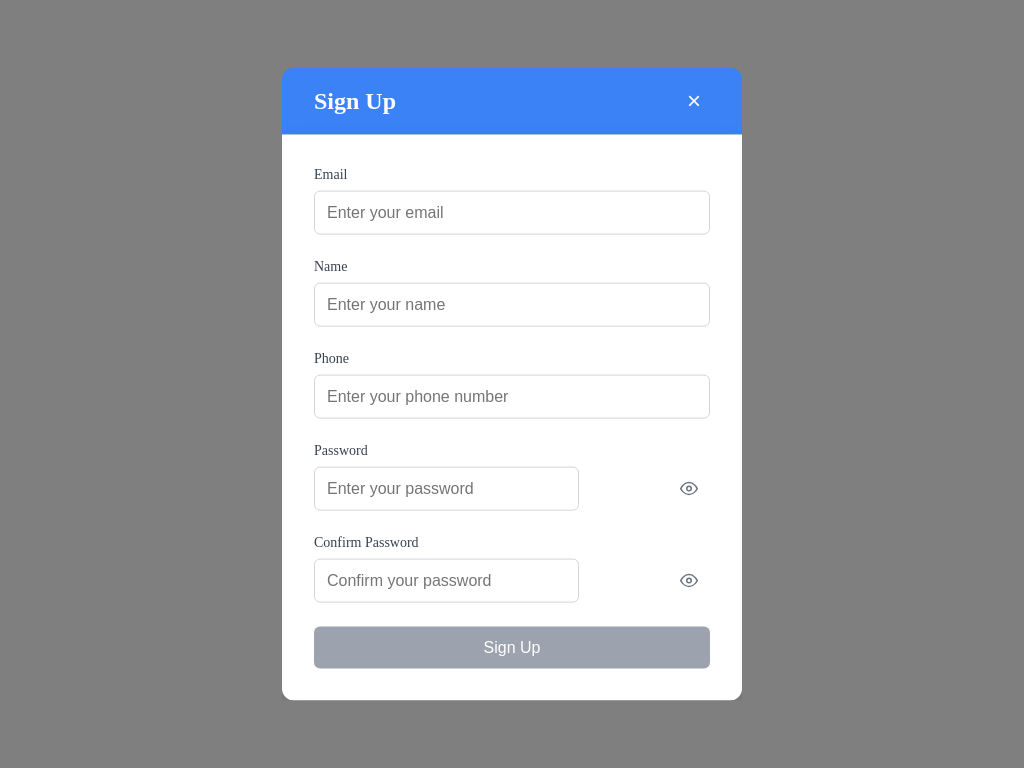
Test case: Signup modal › shows the API error and keeps the modal open on failure
Type "new@b.c" into the field labelled "Email".
click(512, 212); type("new@b.c")  # box [314,190,710,234]
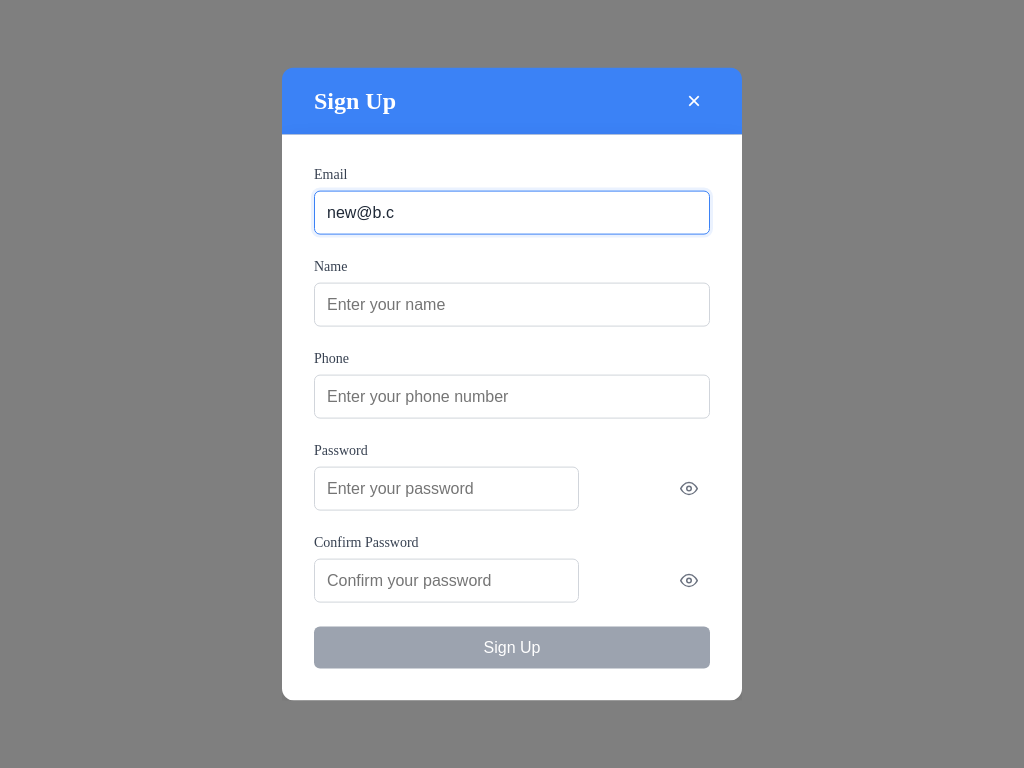
Type "New User" into the field labelled "Name".
click(512, 304); type("New User")  # box [314,282,710,326]
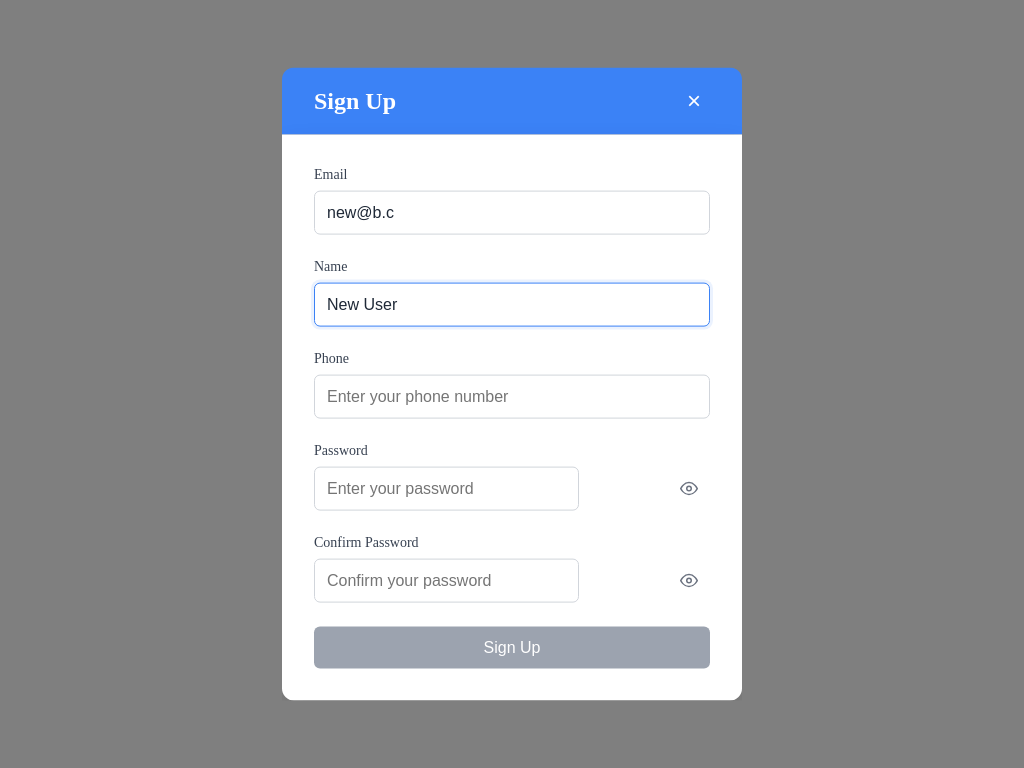
Type "0123456789" into the field labelled "Phone".
click(512, 396); type("0123456789")  # box [314,374,710,418]
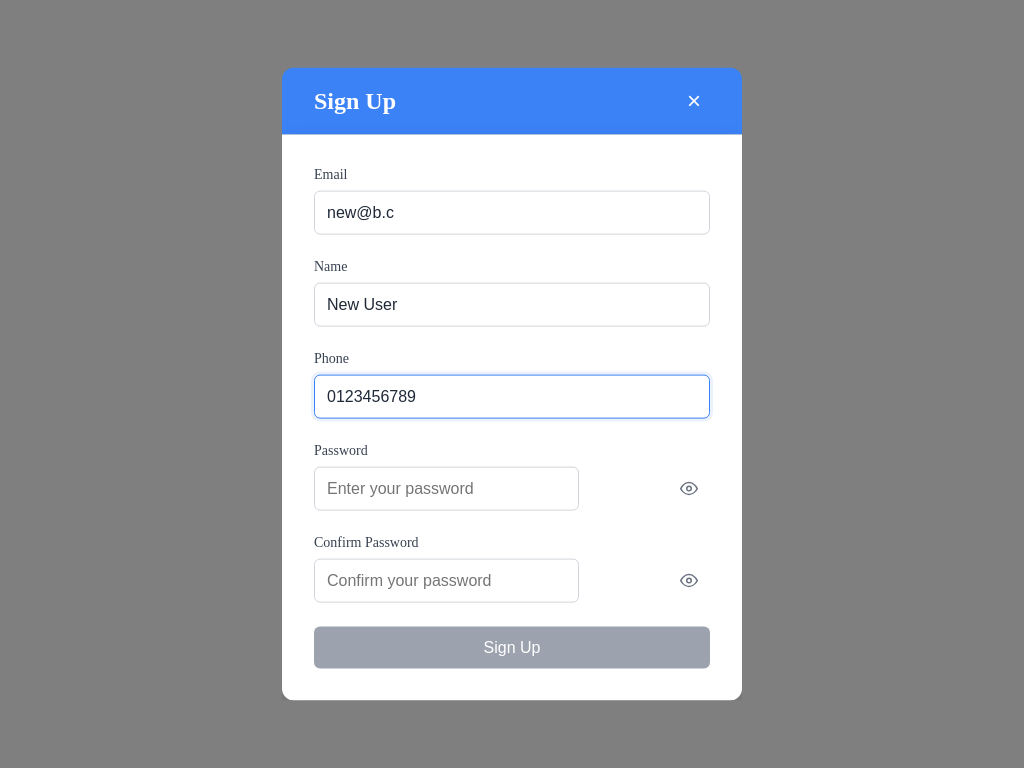
Type "Passw0rd!" into the password field labelled "Password".
click(446, 488); type("Passw0rd!")  # box [314,466,579,510]
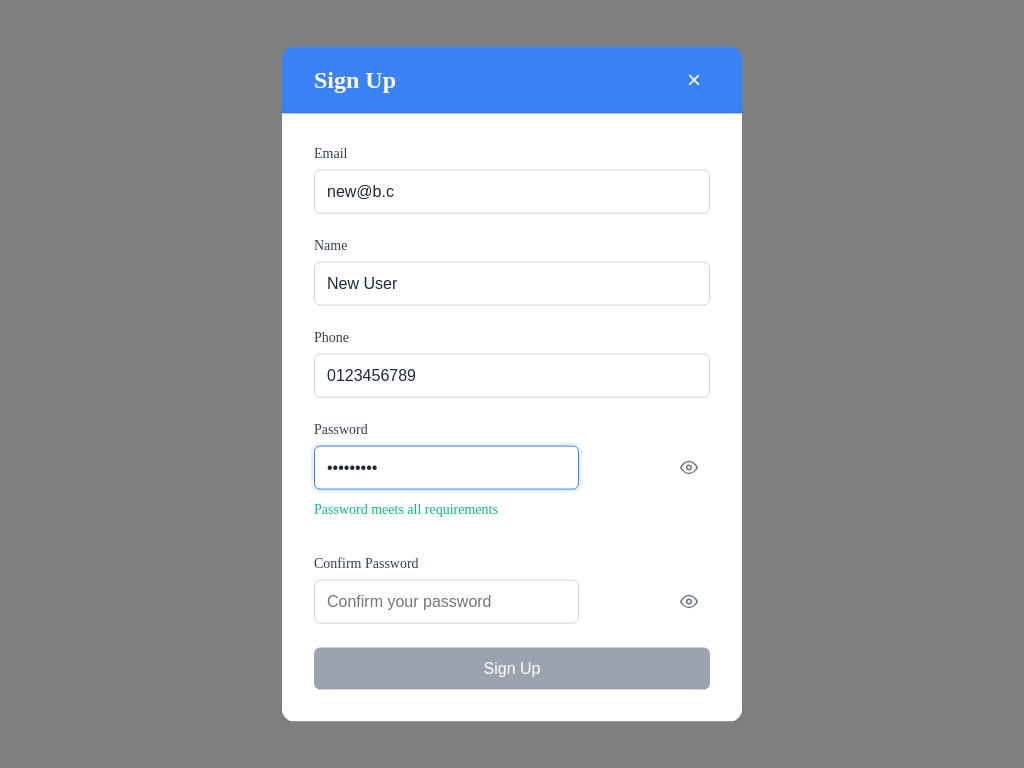
Type "Passw0rd!" into the password field labelled "Confirm Password".
click(446, 601); type("Passw0rd!")  # box [314,579,579,623]
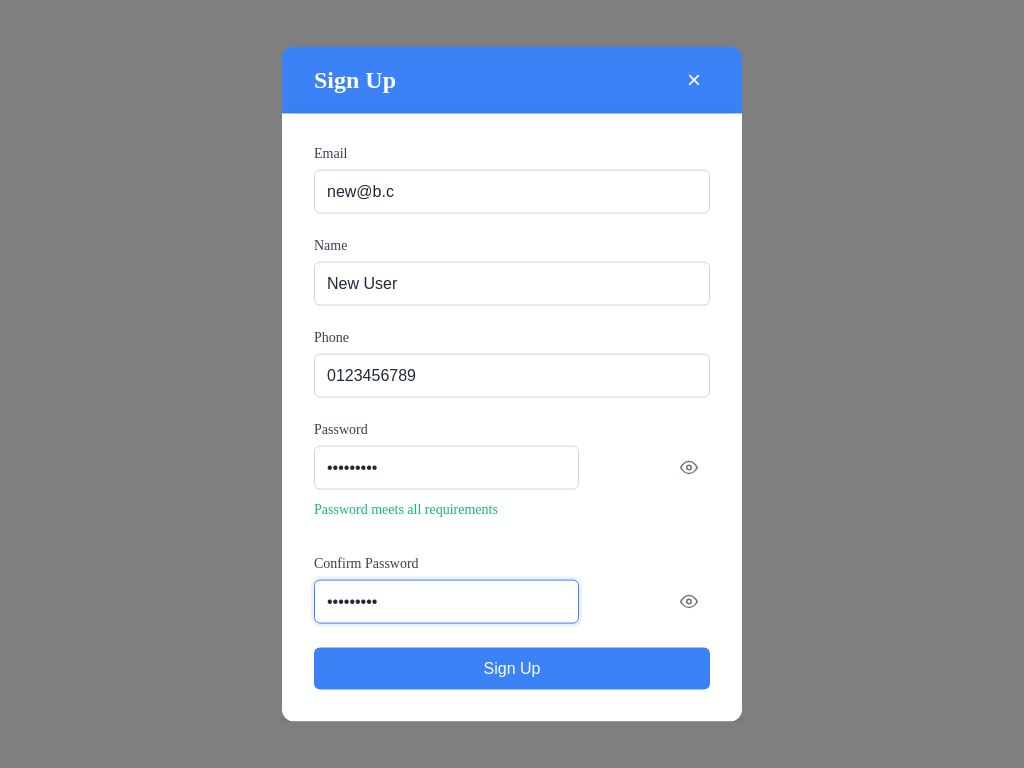
Click the button "Sign Up".
click(512, 668)  # box [314,647,710,689]
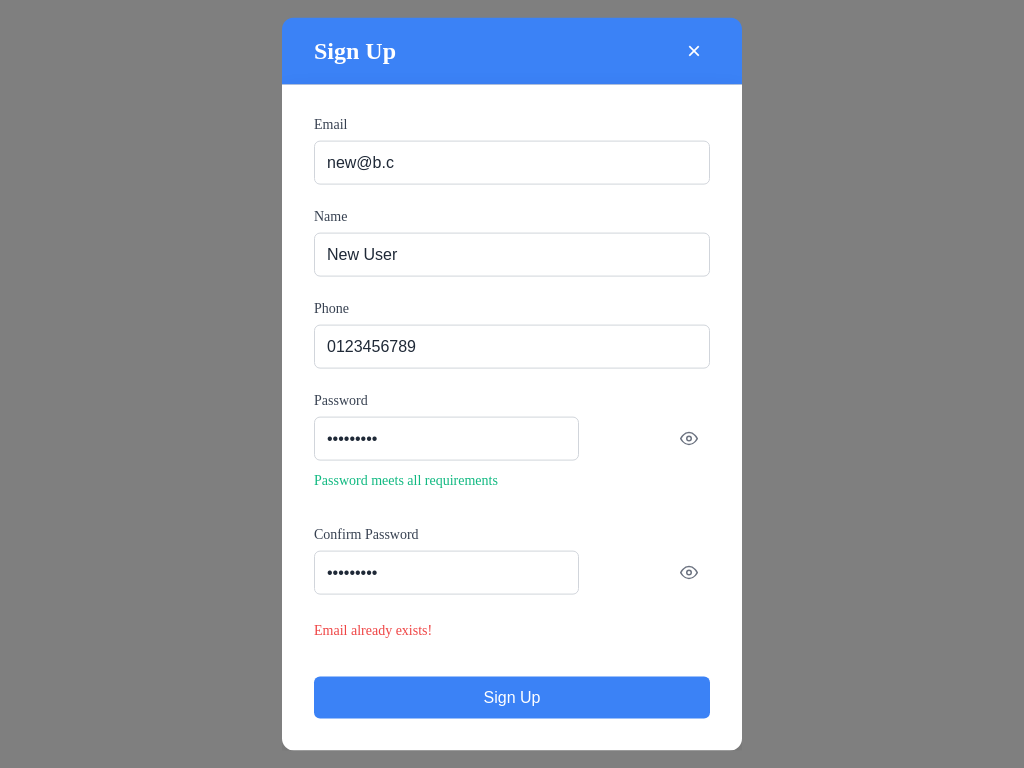
Now the button "Sign Up" is enabled, box [314,676,710,718]
Now the text "Email already exists!" is shown, box [314,622,432,637]
